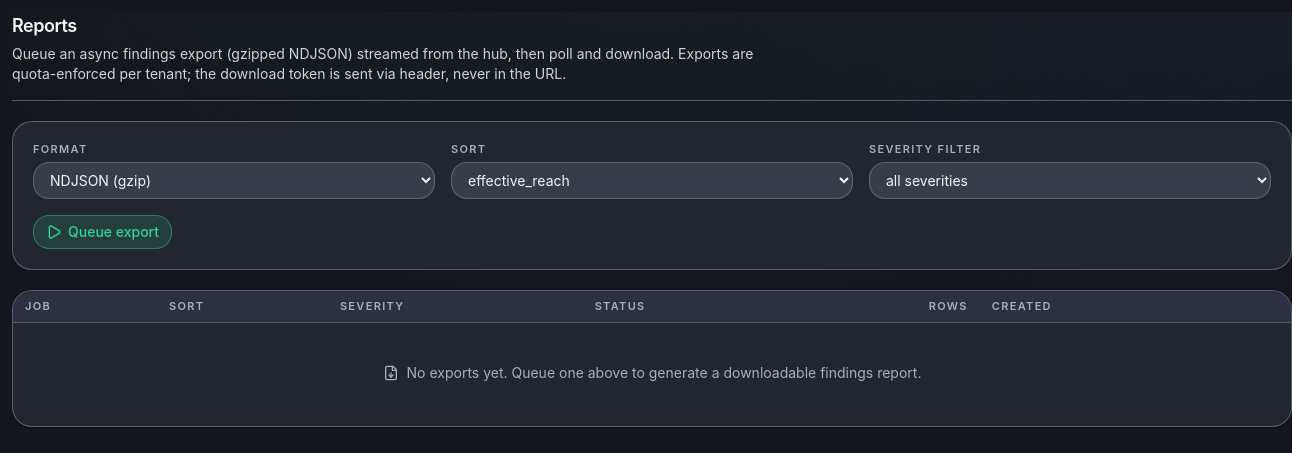
Test: ReportsPanel › polls a pending job until it completes
Click the button with test id "report-create-submit".
click(102, 232)  # box x1=33 y1=215 x2=172 y2=249
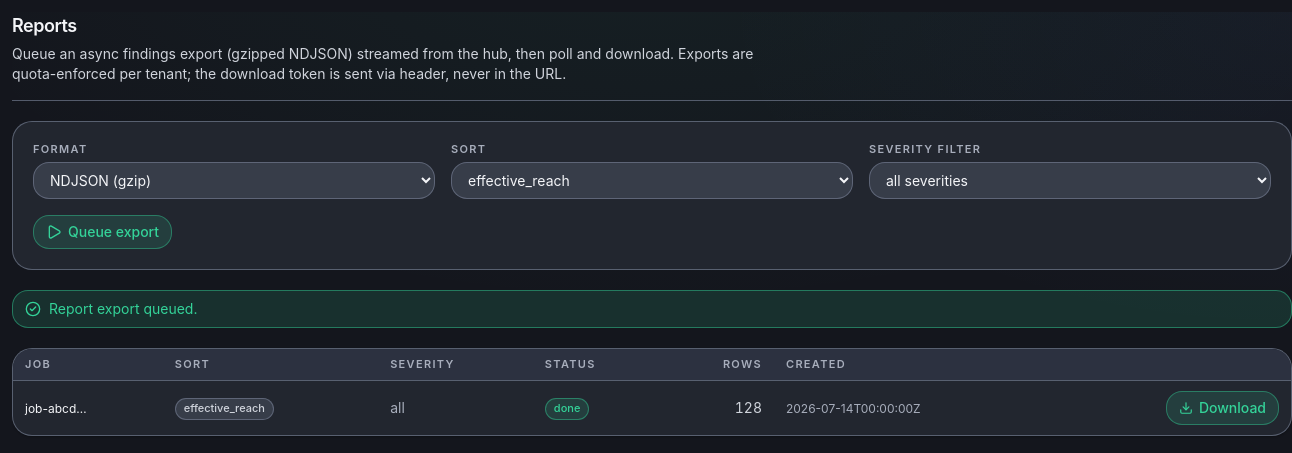
Result: the text "job-abcd…" is shown at x1=25 y1=401 x2=87 y2=416
Result: the element with test id "reports-table" shows "done" at x1=554 y1=401 x2=580 y2=415
